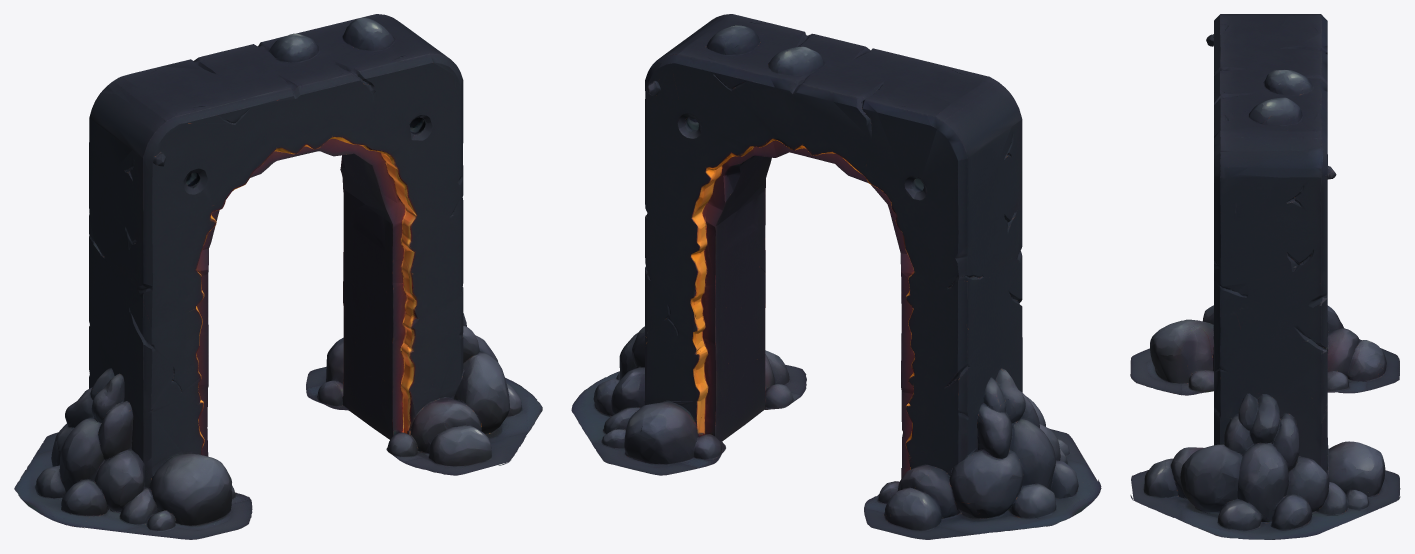
The model's file is volcano-gate-mesh.glb.
The picture shows the model from 3 angles, left to right: view 1: azimuth 30°, elevation 25°; view 2: azimuth 150°, elevation 25°; view 3: azimuth 270°, elevation 25°; orthographic projection. The views are drawn at different scales.
Parts seen in each view (by area): view 1: Mesh_0; view 2: Mesh_0; view 3: Mesh_0.
Part boxes in pixels (left/top/right/bottom): Mesh_0: left=14, top=14, right=542, bottom=539; Mesh_0: left=571, top=14, right=1101, bottom=539; Mesh_0: left=1130, top=14, right=1400, bottom=539.
Bounding box in the file's own units: 1.9 × 1.47 × 0.9674.
1 material, 1 textured.
